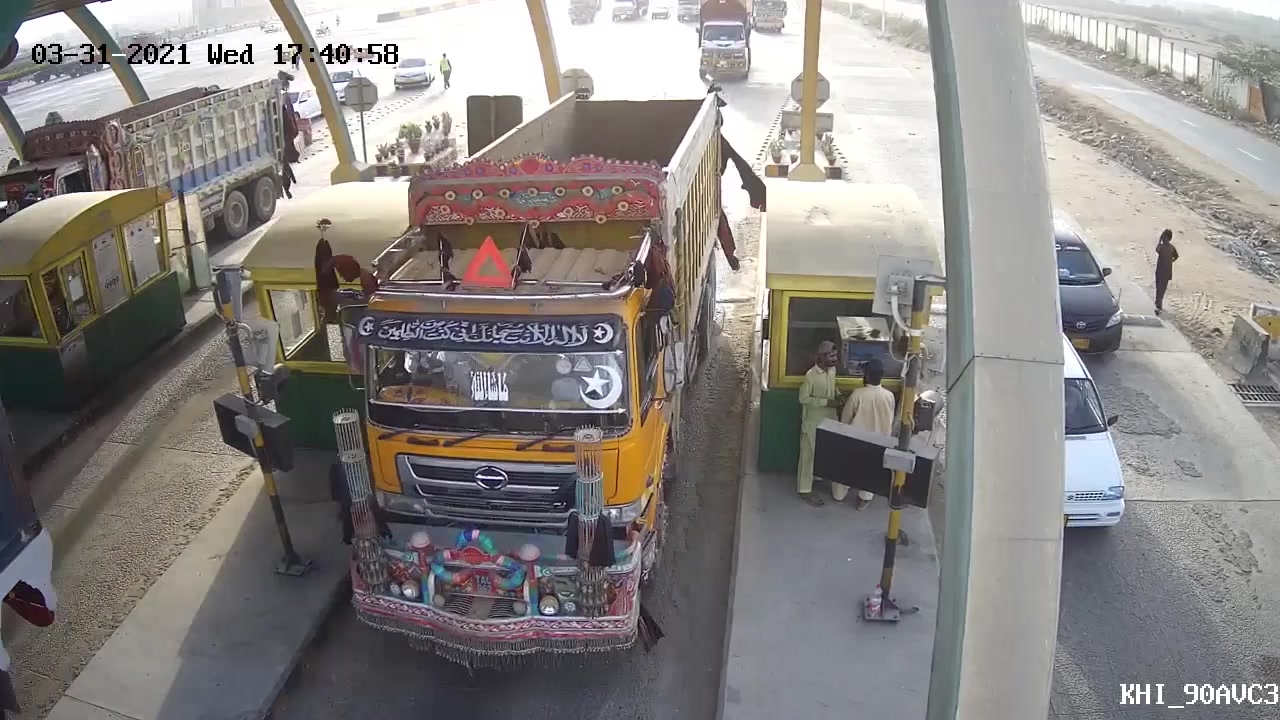F5: (344, 83, 726, 653)
